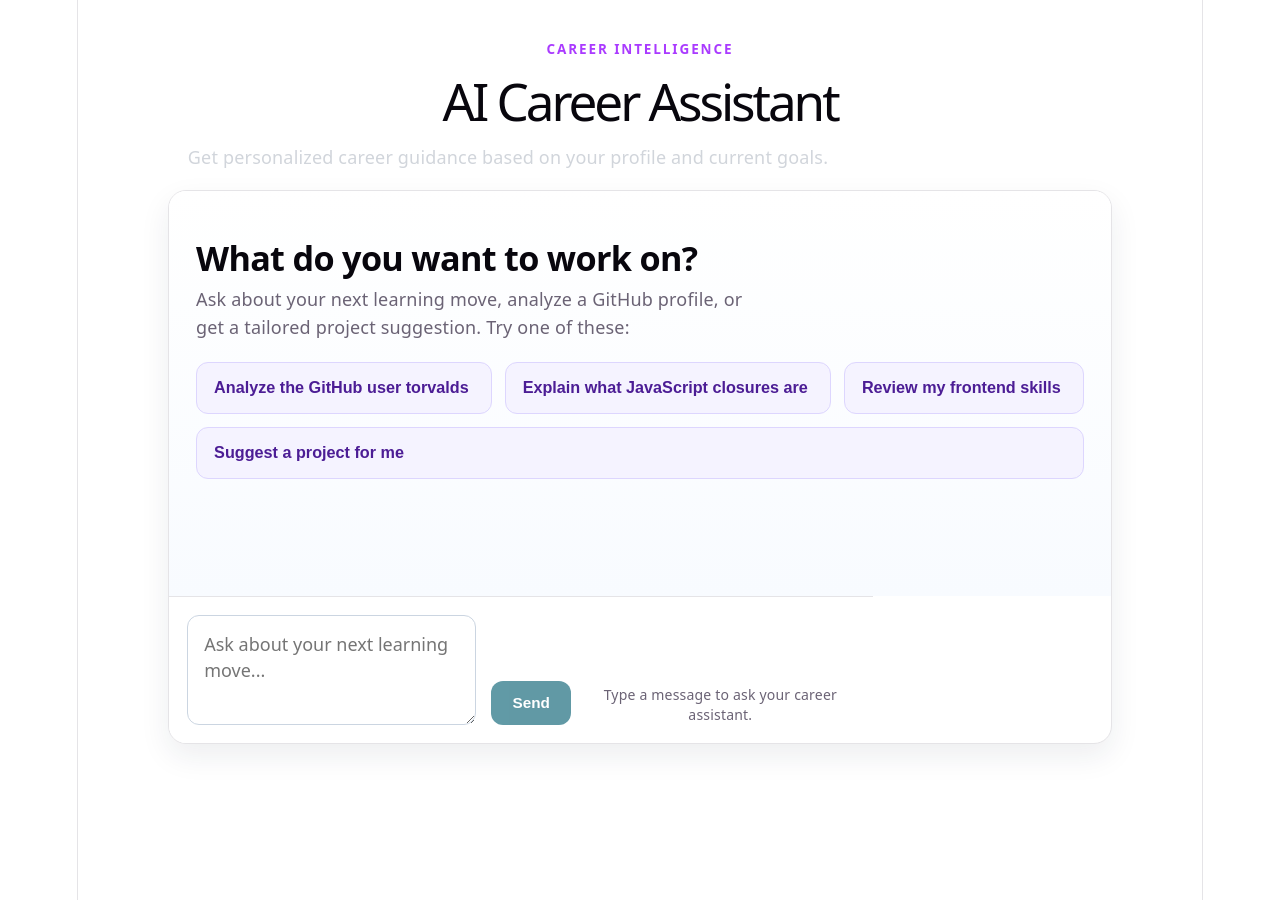
Test: AIChat — ChatMessage › renders an assistant message with its visible content (Test 2)
Type "Tell me about React" into the text box named "Message to AI Career Assistant" at {"x": 332, "y": 670}, box [187,615,476,725]
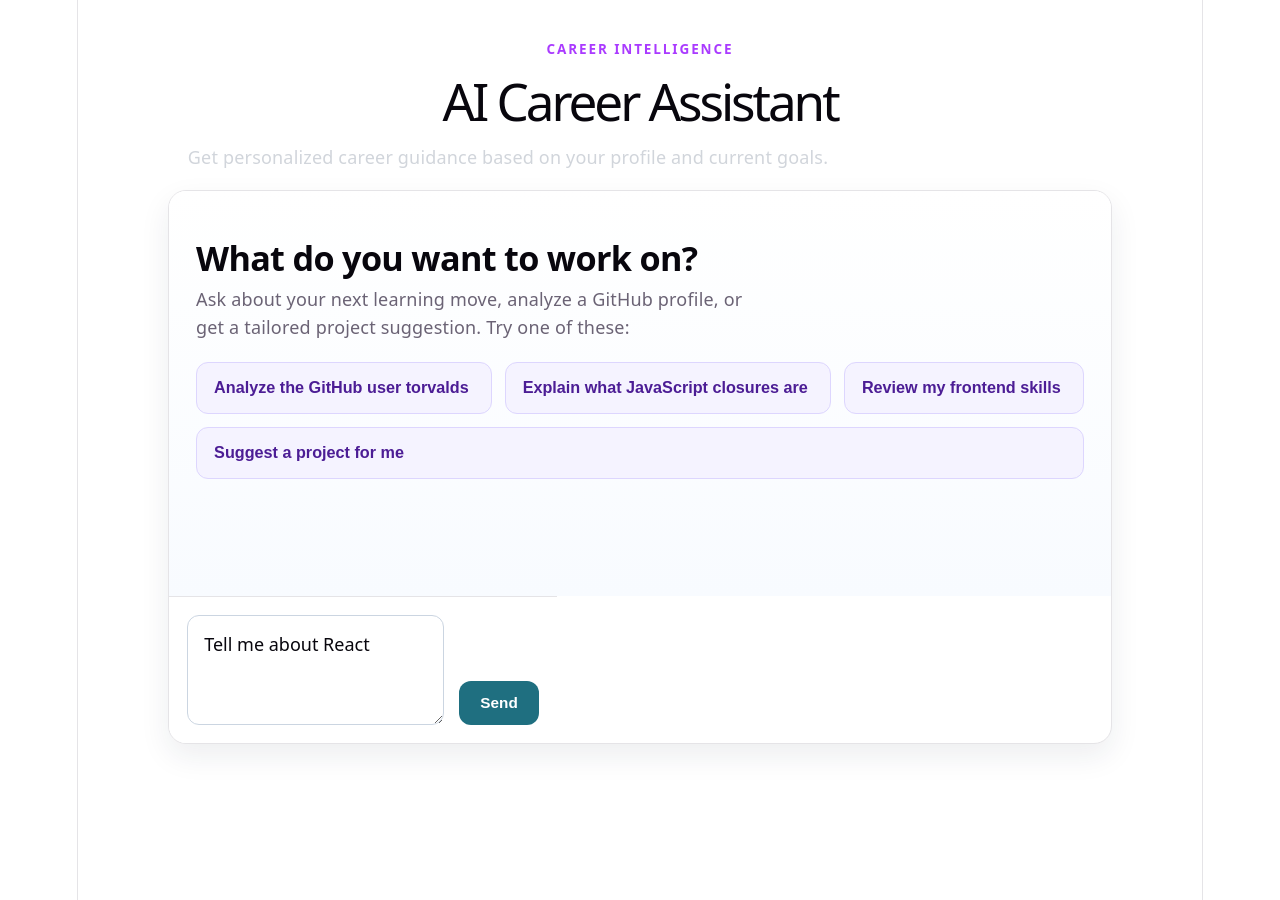
Click the button "Send" at {"x": 499, "y": 703}, box [459,681,539,725]
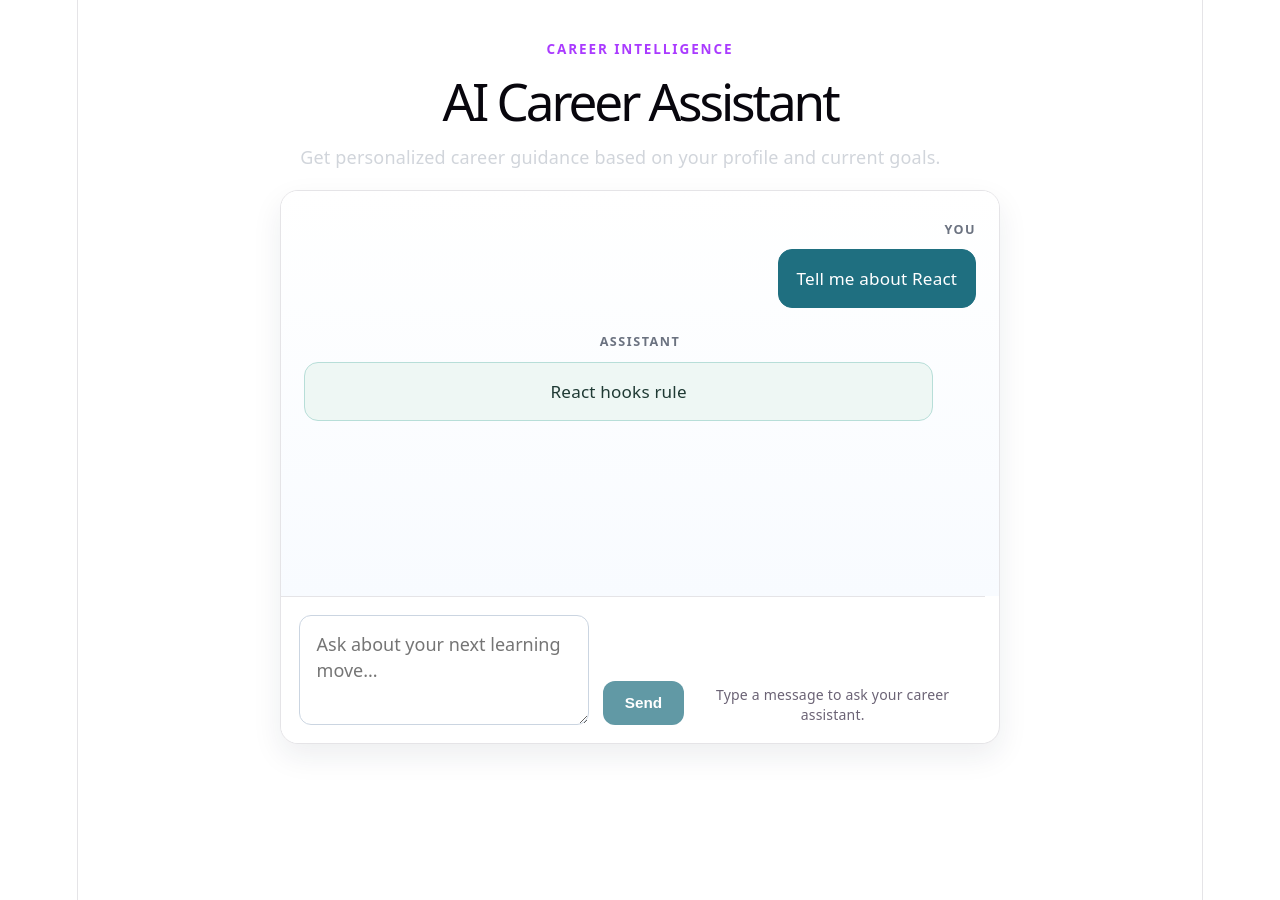
Expected: the text "React hooks rule" is shown, [304,362,934,421]
